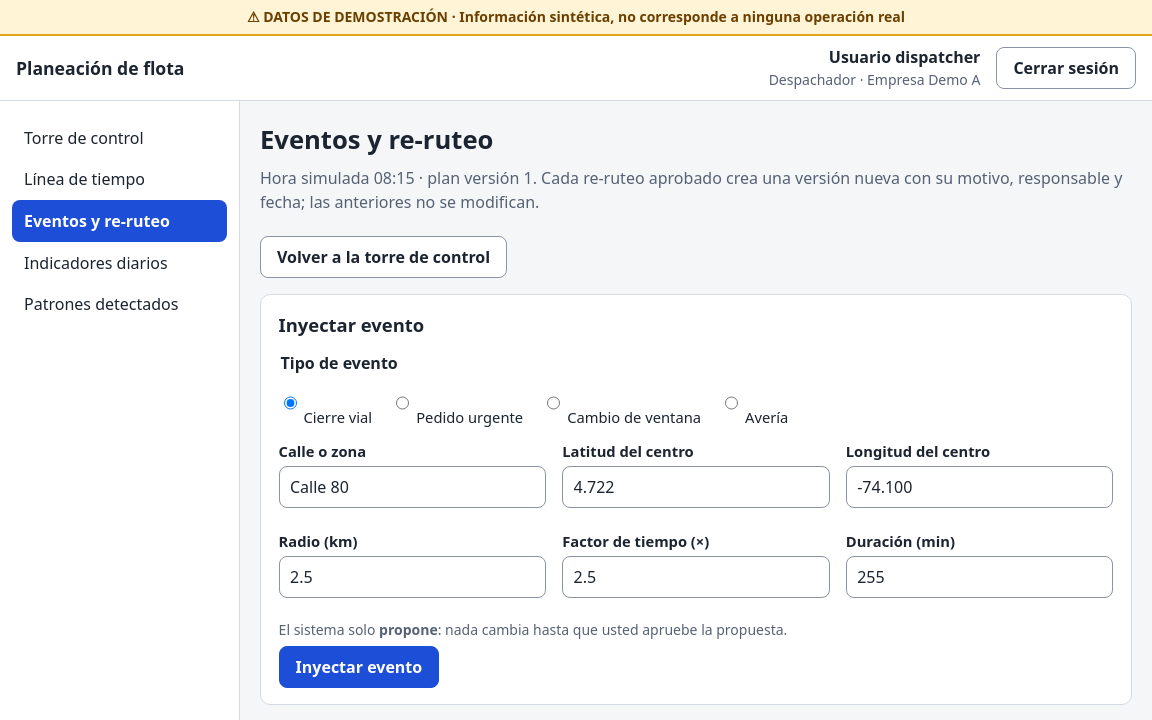
it: eventos y re-ruteo › inyecta un cierre vial con números convertidos y avisa que el sistema solo propone
Check: the text "nada cambia hasta que usted apruebe" is shown, box x1=438 y1=620 x2=787 y2=639
Click the button "Inyectar evento": (359, 667) x1=279 y1=646 x2=439 y2=688
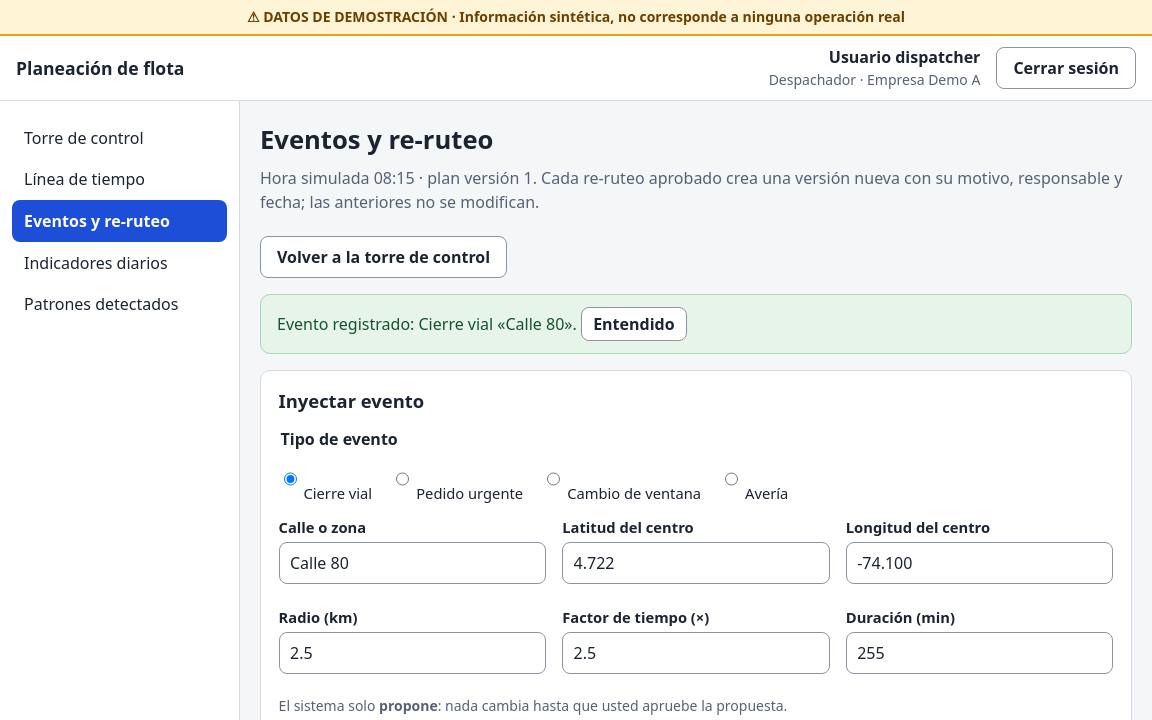
Check: the text "Evento registrado: Cierre vial «Calle 80». Entendido" is shown, box x1=260 y1=294 x2=1132 y2=354
